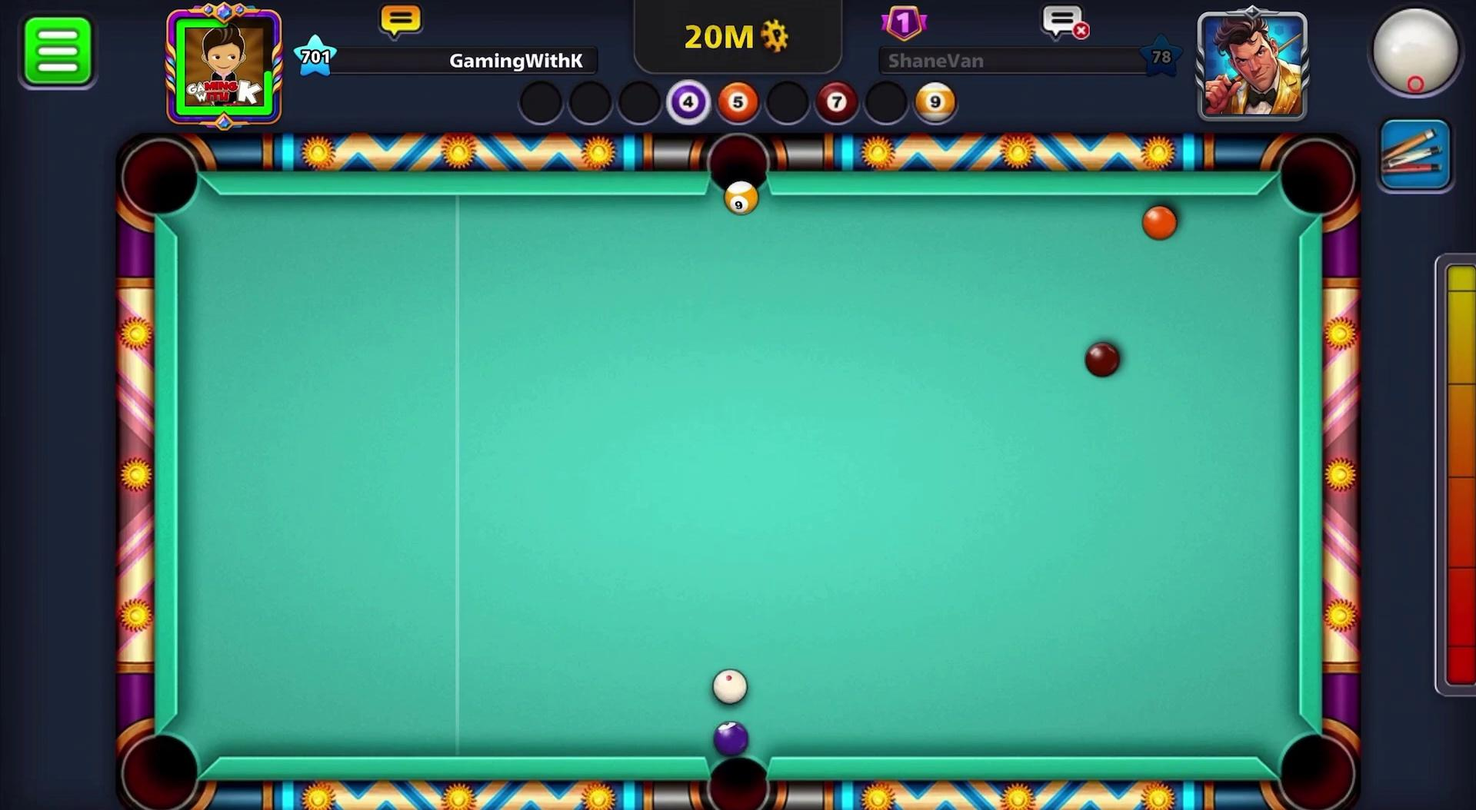Ball: (696, 718, 763, 767), (711, 172, 770, 224), (1080, 337, 1125, 381), (1137, 203, 1180, 244)
Force: (1416, 238, 1476, 705)
Hole: (108, 130, 213, 231), (1268, 131, 1365, 233), (109, 717, 214, 809), (1265, 717, 1364, 809), (688, 719, 785, 809), (699, 125, 780, 212)
Play_Area: (177, 194, 1301, 758)
Spin: (1341, 0, 1474, 119)
White: (705, 667, 752, 707)
